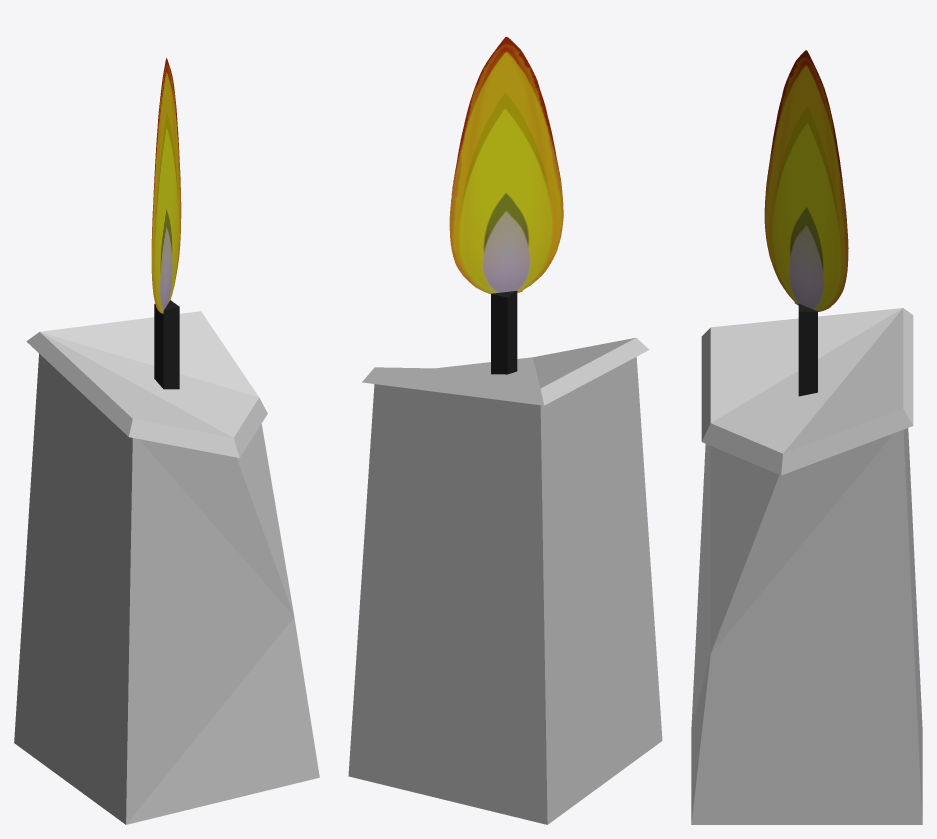
Rendered from Candle_lit.fbx.
3 views of the same model, side by side, from view 1: azimuth 30°, elevation 25°; view 2: azimuth 150°, elevation 25°; view 3: azimuth 270°, elevation 25° (orthographic). The views are drawn at different scales.
Parts seen in each view (by area): view 1: Candle_lit; view 2: Candle_lit; view 3: Candle_lit.
Part boxes in pixels (bbox=[...]): Candle_lit: bbox=[14, 58, 319, 824]; Candle_lit: bbox=[348, 37, 662, 824]; Candle_lit: bbox=[691, 50, 922, 824].
Size of the model in its own units: 0.4608 by 1.63 by 0.4608.
